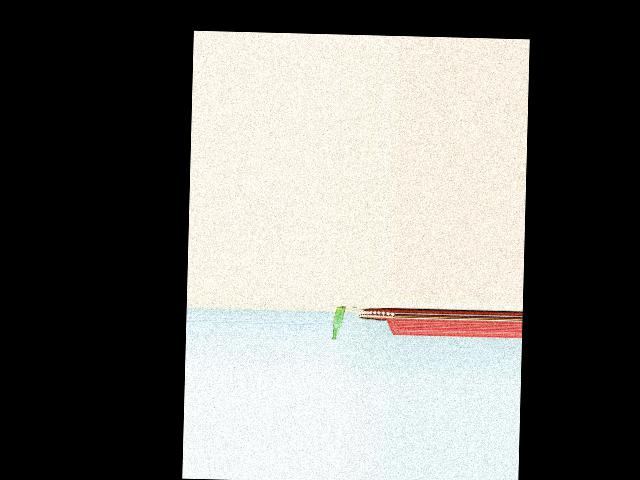beer: (332, 305, 345, 340)
